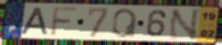6: (146, 9, 168, 39)
7: (86, 6, 111, 39)
A: (20, 6, 51, 36)
F: (49, 6, 79, 37)
N: (167, 8, 203, 41)
Q: (111, 8, 139, 39)
